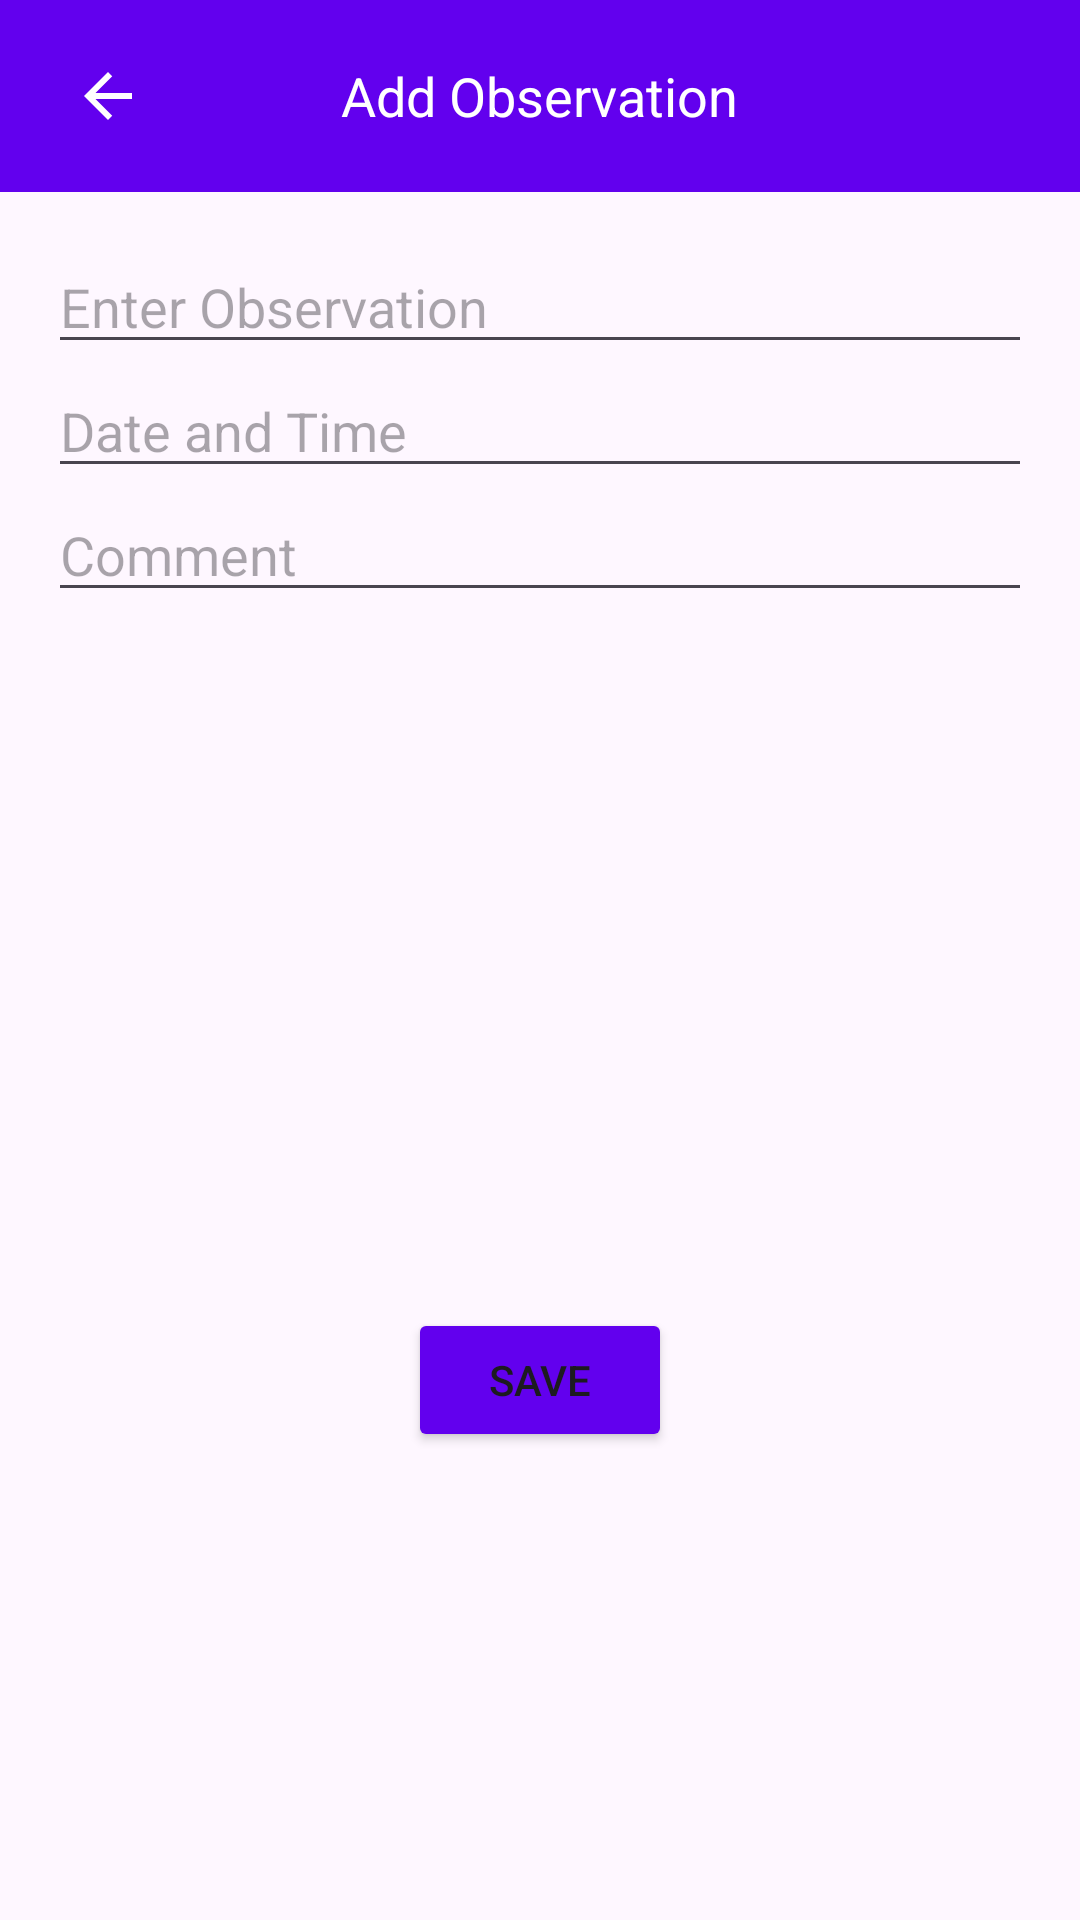

Locate icon controls on the screen. Image size 1080×1920, boxes as detection(x1, y1, x2, y2).
Navigate Back: detection(84, 72, 132, 120)
